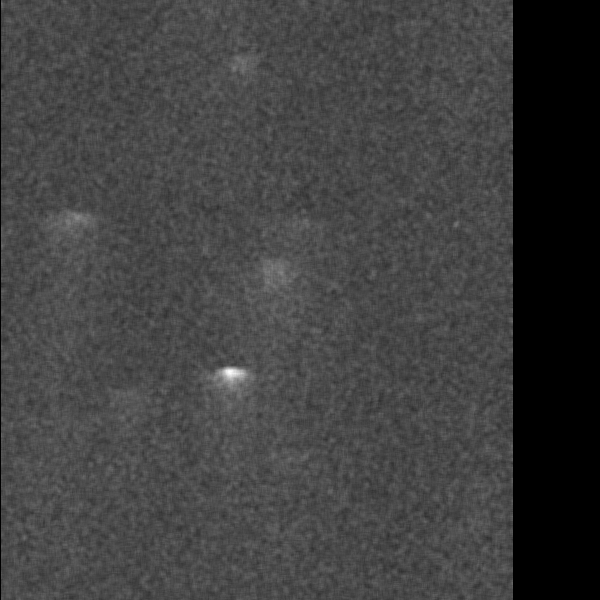spark: (130, 427, 186, 542), (350, 47, 388, 168), (172, 489, 213, 586), (389, 192, 415, 268)
